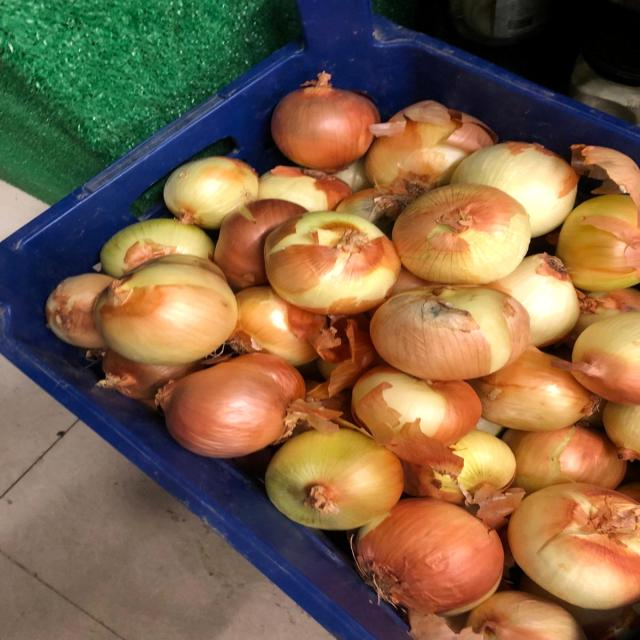onion: (497, 477, 640, 612), (345, 493, 507, 611), (367, 275, 537, 385), (85, 251, 247, 365), (262, 413, 409, 533), (257, 207, 408, 315), (393, 174, 535, 279), (262, 62, 386, 169), (162, 147, 258, 226)
